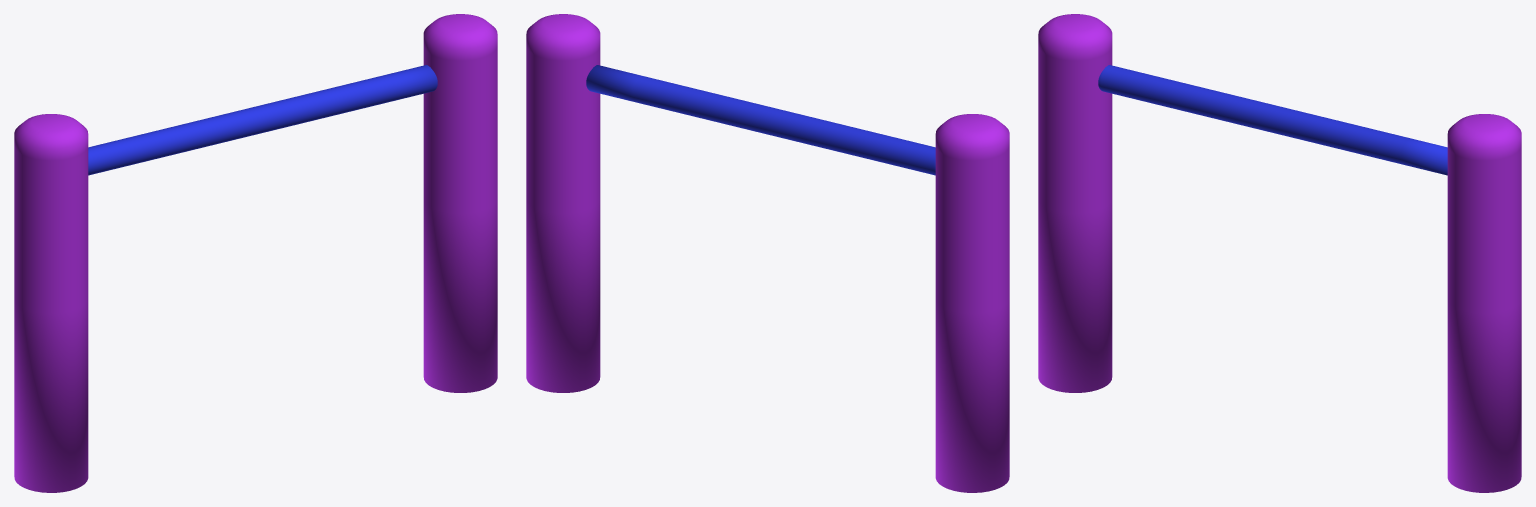
File: under-tipi-engel.fbx
The picture shows the model from 3 angles, left to right: view 1: azimuth 30°, elevation 25°; view 2: azimuth 150°, elevation 25°; view 3: azimuth 330°, elevation 25°; orthographic projection.
Visible parts, largest first — view 1: Cylinder.009, Cylinder.007, Cylinder.008; view 2: Cylinder.009, Cylinder.007, Cylinder.008; view 3: Cylinder.007, Cylinder.009, Cylinder.008.
Part boxes in pixels (x1,y1,x2,y2): Cylinder.009: [14, 114, 88, 492]; Cylinder.007: [423, 14, 497, 392]; Cylinder.008: [88, 65, 437, 175]; Cylinder.009: [935, 114, 1009, 492]; Cylinder.007: [526, 14, 600, 392]; Cylinder.008: [586, 65, 935, 175]; Cylinder.007: [1447, 114, 1521, 492]; Cylinder.009: [1038, 14, 1112, 392]; Cylinder.008: [1098, 65, 1447, 175].
Bounding box in the file's own units: 337 × 241 × 45.55.
